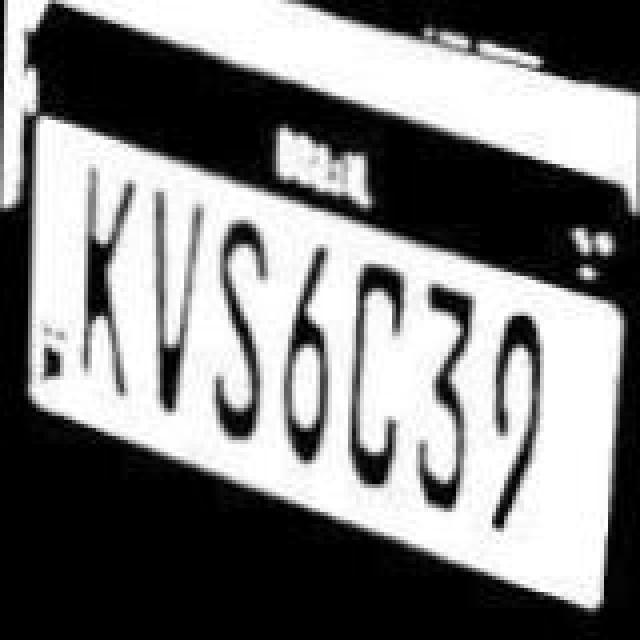3: (414, 280, 482, 512)
6: (282, 236, 338, 464)
9: (486, 310, 546, 538)
C: (348, 262, 408, 490)
K: (70, 158, 134, 402)
S: (212, 216, 272, 440)
V: (146, 186, 202, 422)
